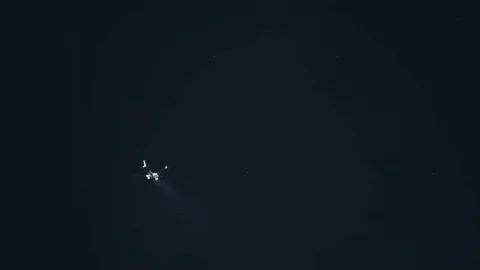Plane: (132, 157, 180, 196)
